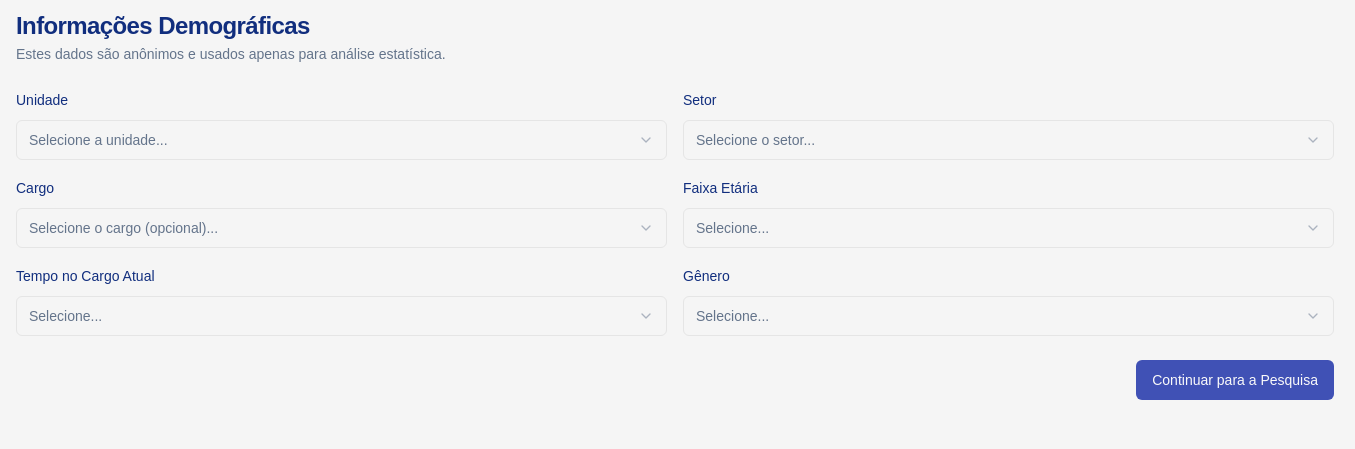
Test: SurveyDemographicsForm Component › should show validation errors
Click the button "Continuar para a Pesquisa" at coordinates (1235, 380), box [1136,360,1334,400]
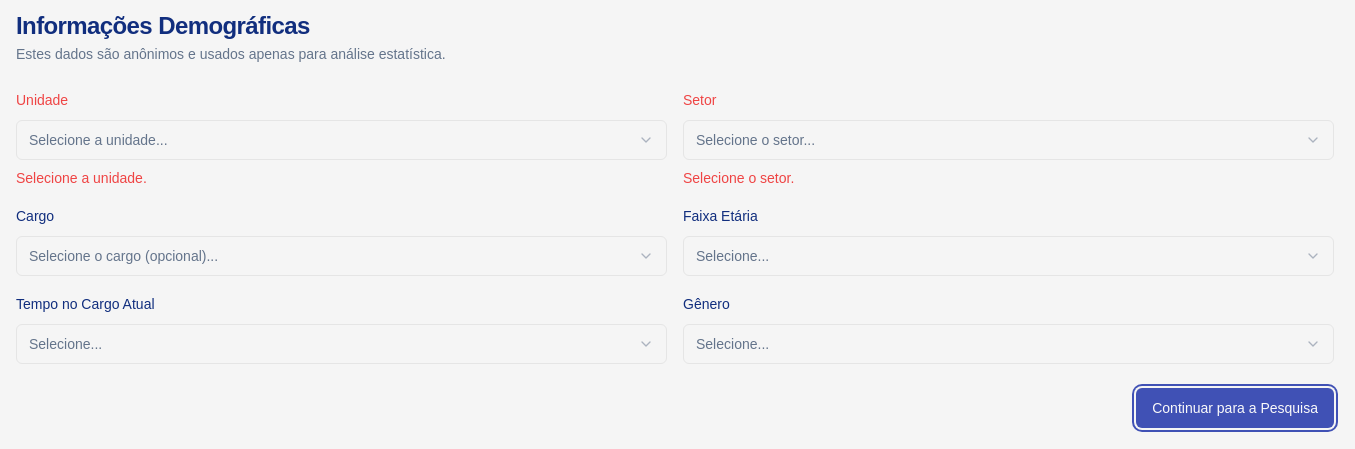
Now the text "Selecione a unidade." is shown, box [16,170,147,186]
Now the text "Selecione o setor." is shown, box [683,170,794,186]
